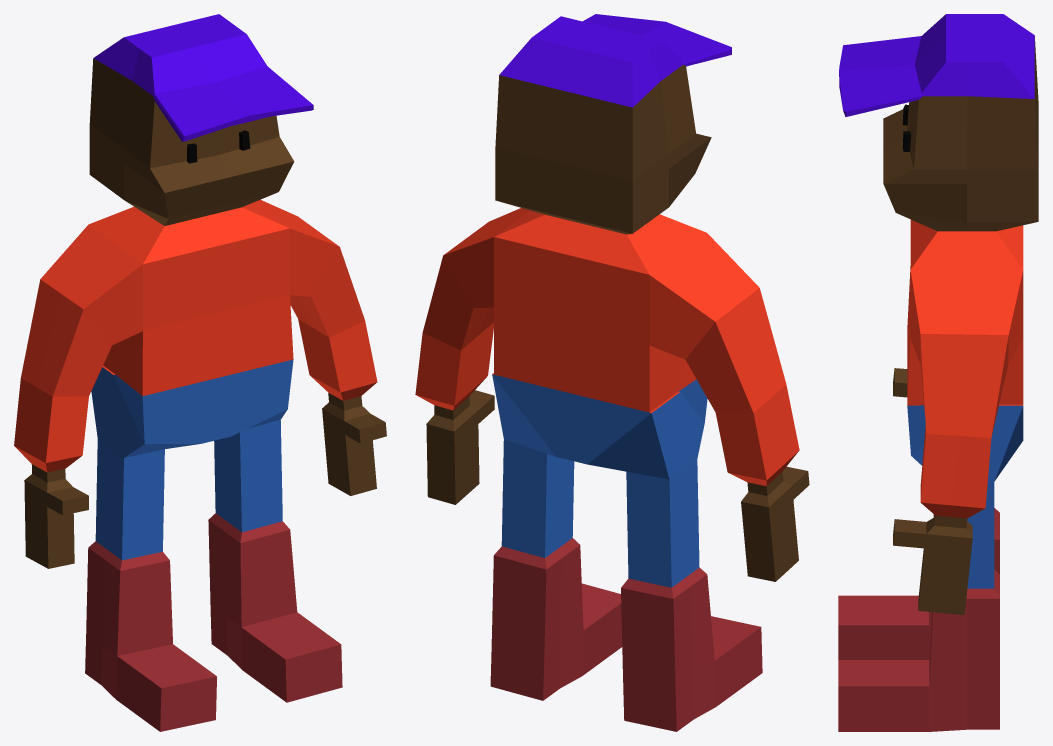
File: HumanCap1.fbx
3 renders of one model, left to right at view 1: azimuth 30°, elevation 25°; view 2: azimuth 150°, elevation 25°; view 3: azimuth 270°, elevation 25°, orthographic. The views are drawn at different scales.
Visible parts, largest first — view 1: HatHuman.001; view 2: HatHuman.001; view 3: HatHuman.001.
Part boxes in pixels (x1,y1,x2,y2): HatHuman.001: (14, 14, 386, 731); HatHuman.001: (415, 14, 809, 731); HatHuman.001: (838, 14, 1038, 731).
Bounding box in the file's own units: 227 × 409 × 114.
